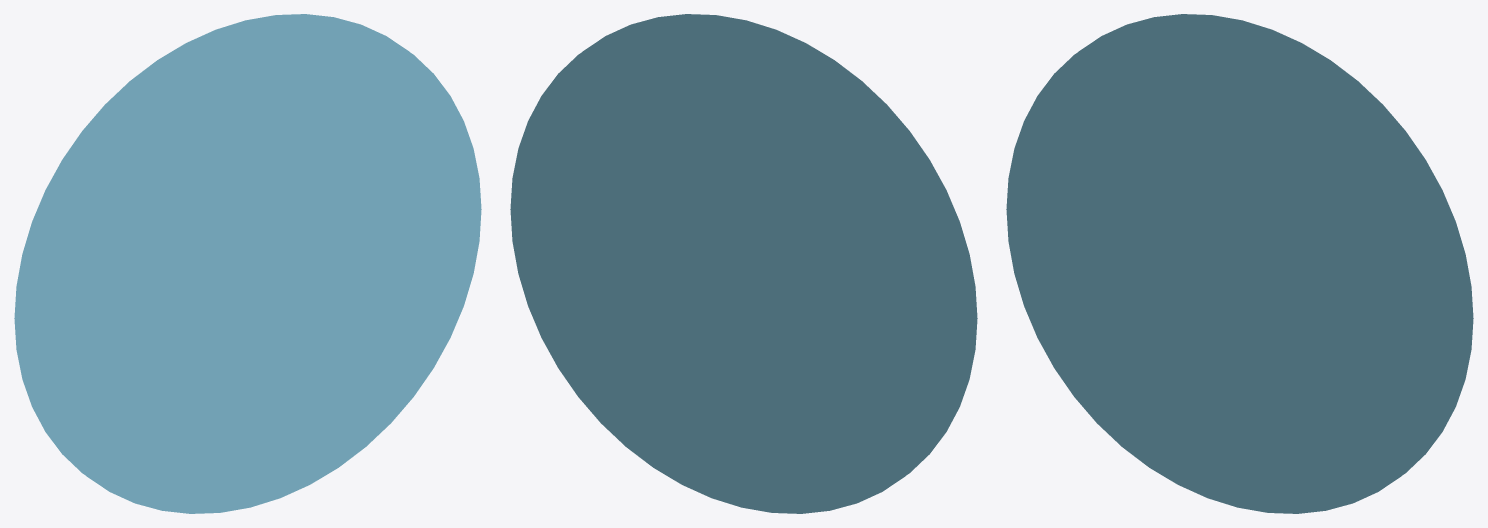
File: Stargate_Warp_01.FBX
The picture shows the model from 3 angles, left to right: view 1: azimuth 30°, elevation 25°; view 2: azimuth 150°, elevation 25°; view 3: azimuth 330°, elevation 25°; orthographic projection.
Parts seen in each view (by area): view 1: Stargate_Warp_01; view 2: Stargate_Warp_01; view 3: Stargate_Warp_01.
Part boxes in pixels (left/top/right/bottom): Stargate_Warp_01: left=14, top=14, right=481, bottom=513; Stargate_Warp_01: left=510, top=14, right=977, bottom=513; Stargate_Warp_01: left=1006, top=14, right=1473, bottom=513.
Bounding box in the file's own units: 822 × 822 × 14.65.
